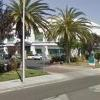Palm tree: (9, 1, 88, 53)
